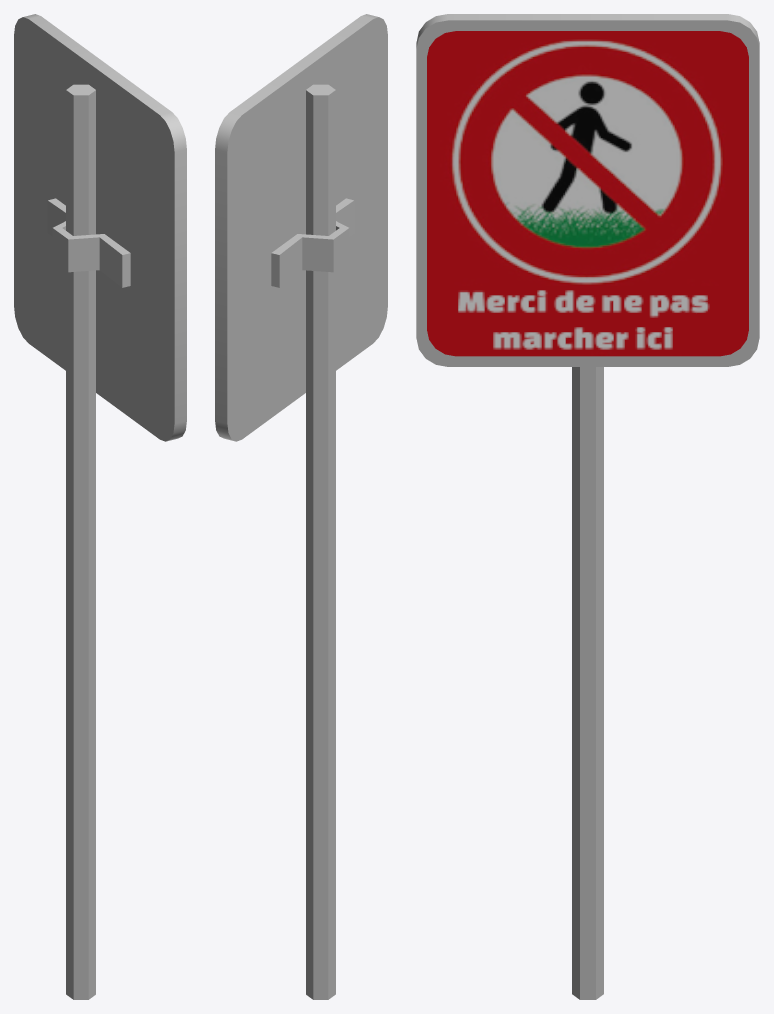
Rendered from SM_Information_Panel_01.fbx.
3 renders of one model, left to right at view 1: azimuth 30°, elevation 25°; view 2: azimuth 150°, elevation 25°; view 3: azimuth 270°, elevation 25°, orthographic. The views are drawn at different scales.
Parts seen in each view (by area): view 1: SM_Information_Panel_01; view 2: SM_Information_Panel_01; view 3: SM_Information_Panel_01.
Part boxes in pixels (left/top/right/bottom): SM_Information_Panel_01: left=14, top=14, right=186, bottom=999; SM_Information_Panel_01: left=215, top=14, right=387, bottom=999; SM_Information_Panel_01: left=416, top=14, right=759, bottom=999.
Size of the model in its own units: 0.1198 by 2.29 by 0.7221.
